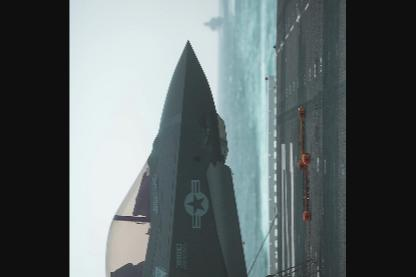F22: (105, 38, 321, 275)
